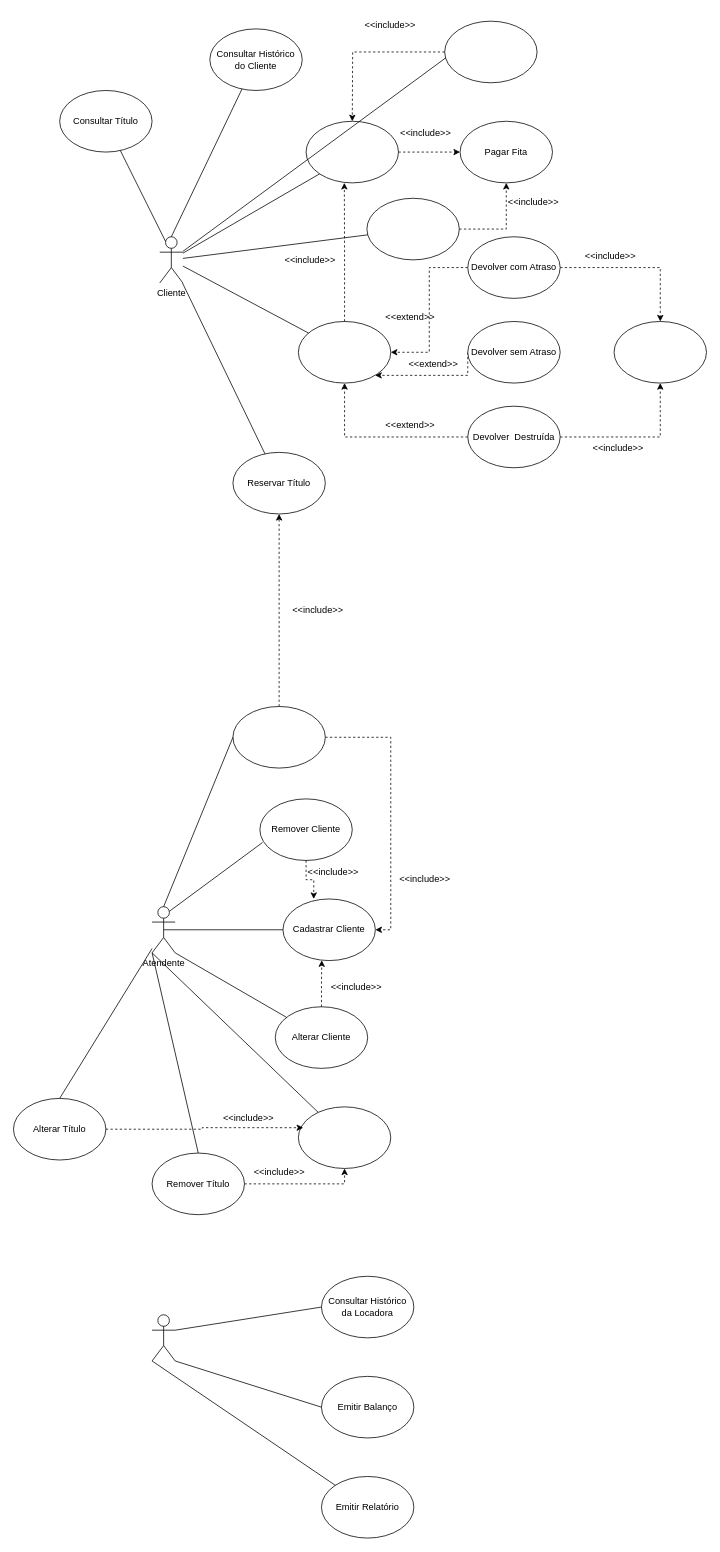
The diagram is 720 pixels wide and 1552 high, and some of its shapes have lost their labels. The shapes that lost their labels are listed below. From the top down, each one's centre as x and y in pixels, then its label:
At (x=490, y=51): "Perder Fita".
At (x=351, y=152): "Alugar Fita".
At (x=412, y=229): "Comprar Fita".
At (x=344, y=352): "Devolver Fita".
At (x=659, y=352): "Pagar multa".
At (x=278, y=737): "Contactar Cliente".
At (x=344, y=1137): "Cadastrar Título".
At (x=163, y=1337): "Gerente".
